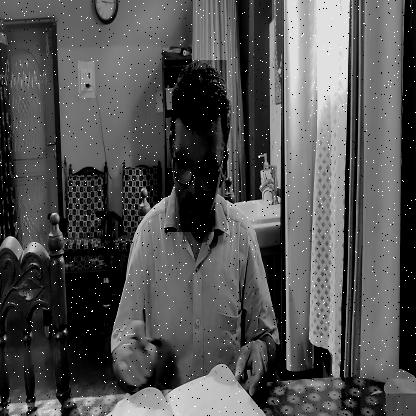Normal: (165, 60, 227, 232)
